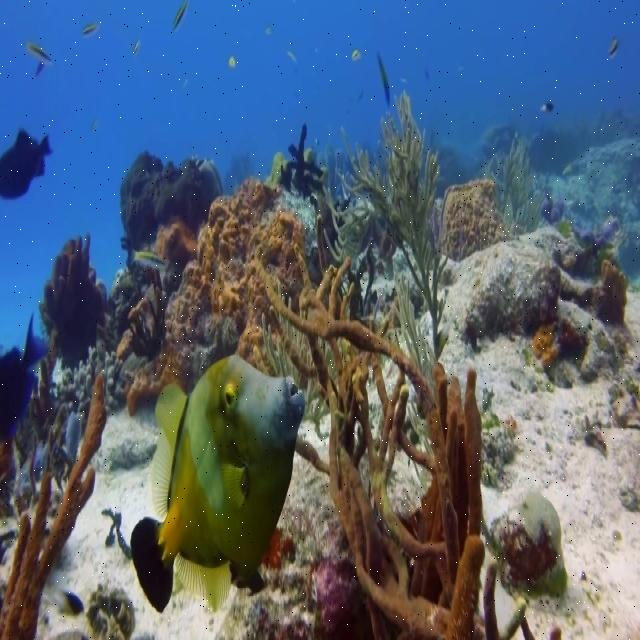aquatic plants: (321, 91, 449, 360), (484, 135, 546, 229)
fish: (130, 357, 308, 613), (0, 314, 50, 438), (0, 129, 54, 199)
reefs: (259, 212, 538, 639), (126, 175, 304, 418), (0, 372, 109, 639), (40, 233, 106, 369), (492, 492, 567, 599), (440, 178, 516, 257), (0, 129, 52, 199)
sea-floor: (116, 152, 226, 247)
